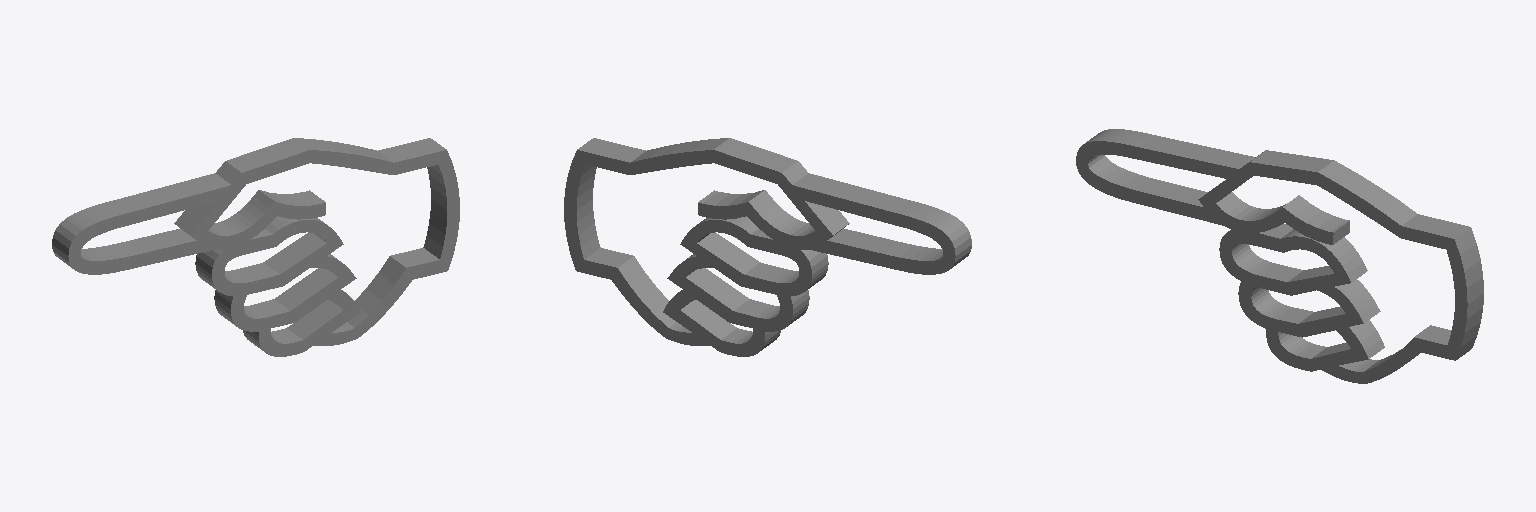
Rendered from pointer.obj.
3 renders of one model, left to right at view 1: azimuth 30°, elevation 25°; view 2: azimuth 150°, elevation 25°; view 3: azimuth 330°, elevation 25°, orthographic.
Parts seen in each view (by area): view 1: Mesh_; view 2: Mesh_; view 3: Mesh_.
Part boxes in pixels (x1,y1,x2,y2): Mesh_: (52, 138, 459, 356); Mesh_: (564, 138, 971, 356); Mesh_: (1076, 129, 1483, 383).
Size of the model in its own units: 19.16 by 9.44 by 1.4.